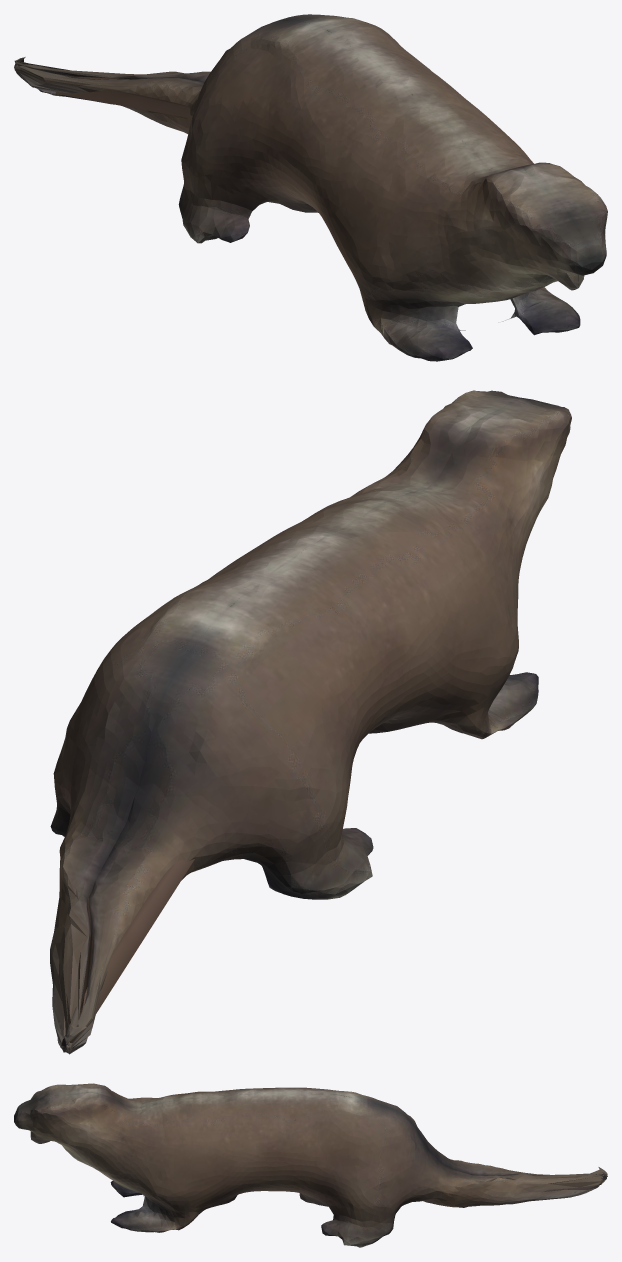
3 renders of one model, top to bottom at view 1: azimuth 30°, elevation 25°; view 2: azimuth 150°, elevation 25°; view 3: azimuth 270°, elevation 25°, orthographic. The views are drawn at different scales.
Parts seen in each view (by area): view 1: Mesh_0.001; view 2: Mesh_0.001; view 3: Mesh_0.001.
Boxes of the visible parts, x1,y1,x2,y2 form: Mesh_0.001: [14, 14, 607, 361]; Mesh_0.001: [50, 390, 571, 1054]; Mesh_0.001: [14, 1083, 607, 1247].
Bounding box in the file's own units: 0.204 × 0.1644 × 0.7002.
Materials: 1 (1 with a texture image).
